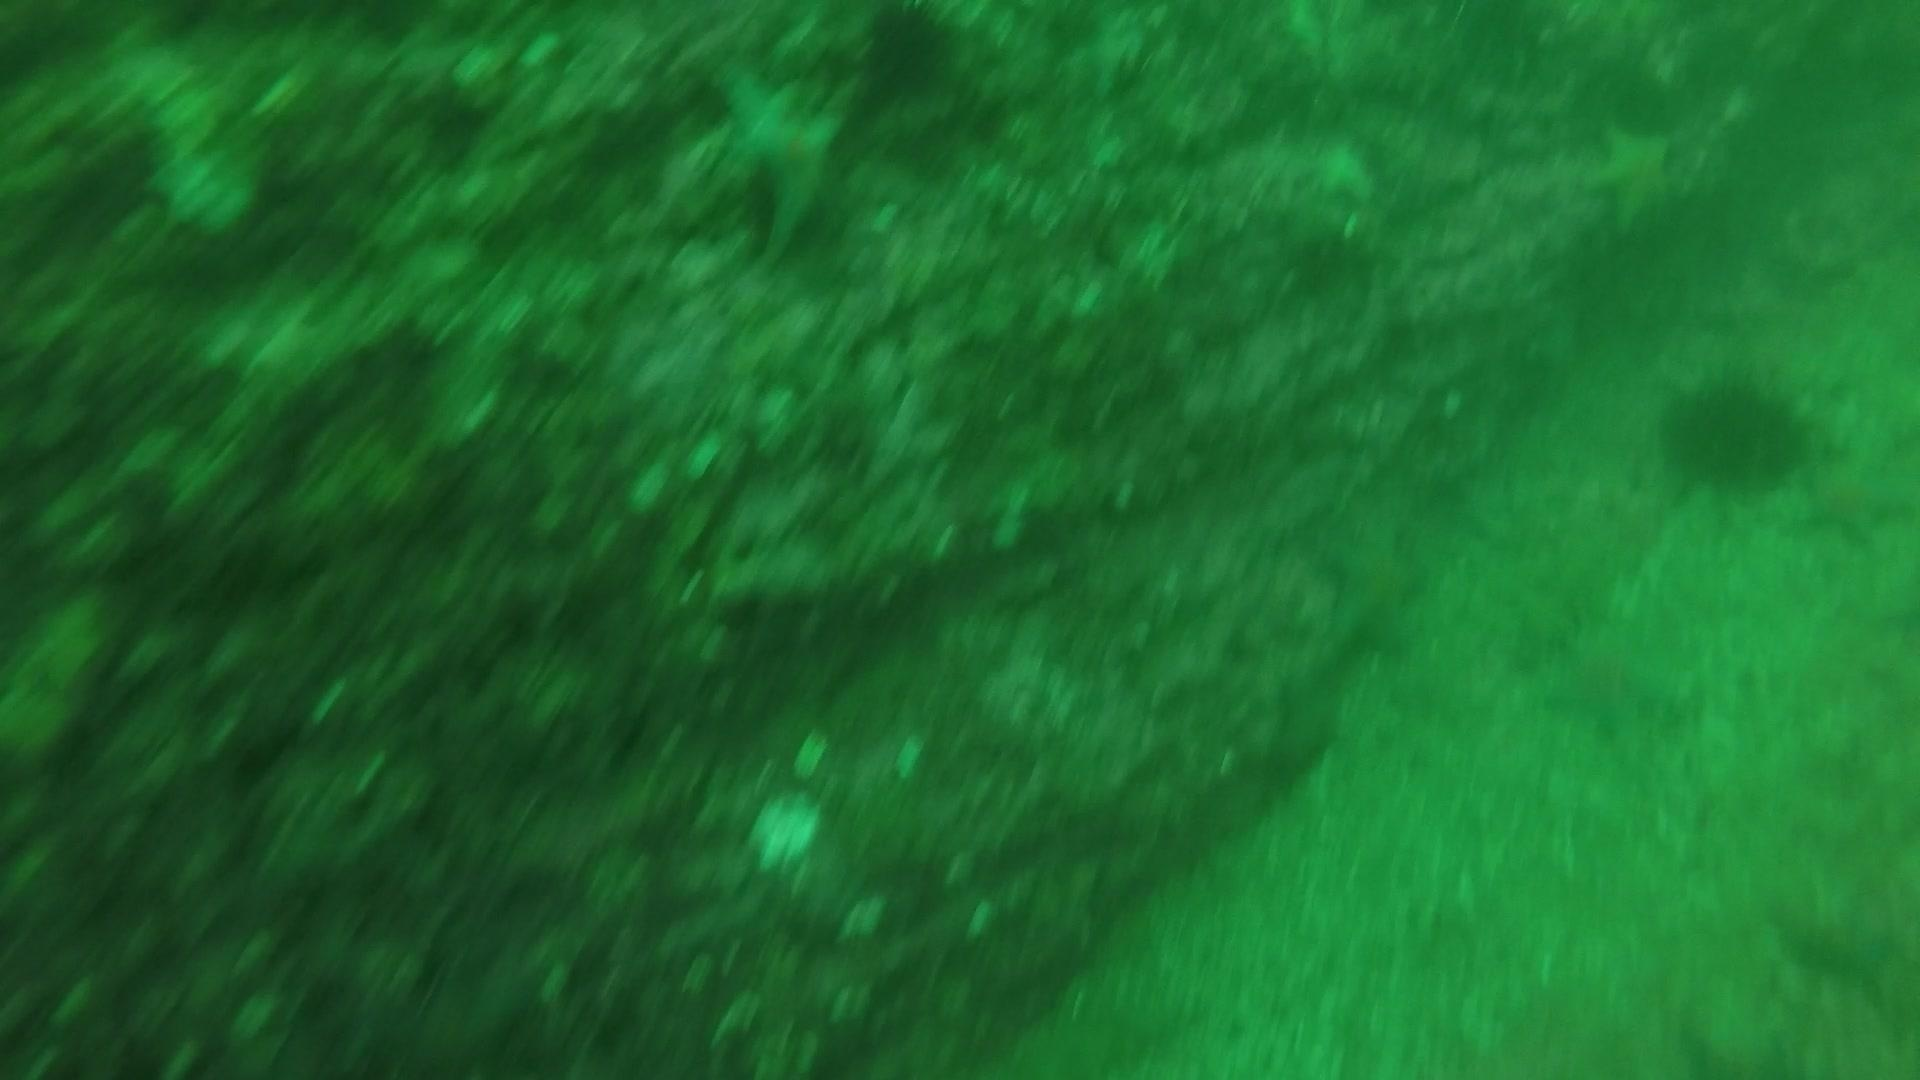echinus: (1652, 364, 1818, 498), (853, 1, 967, 100)
starfish: (695, 61, 860, 258), (1532, 613, 1689, 742), (1311, 517, 1437, 661), (1577, 117, 1695, 240), (1791, 444, 1915, 549)
